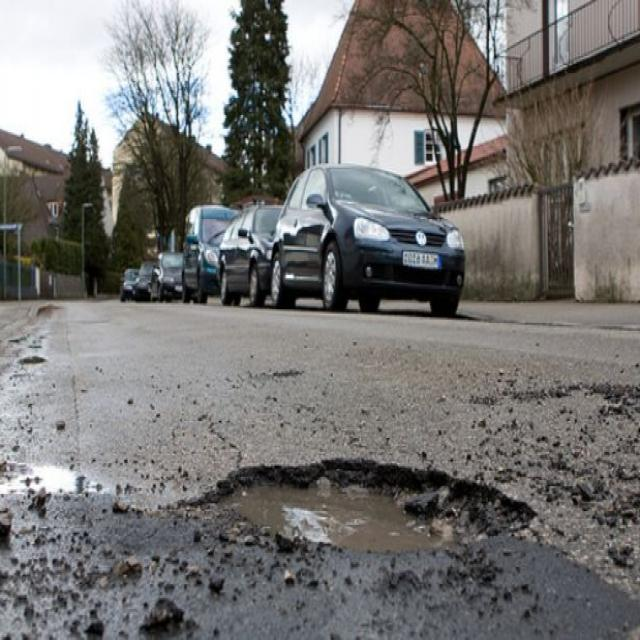pothole: (172, 446, 545, 558)
